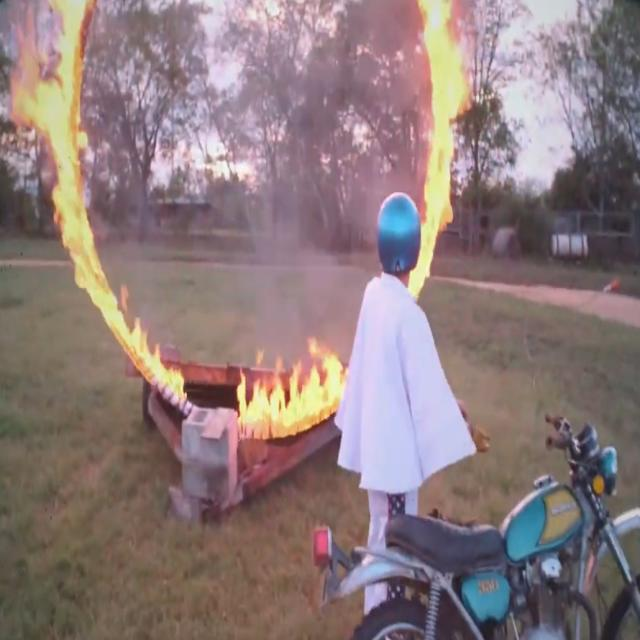fire: (61, 231, 164, 383), (16, 77, 92, 232), (236, 337, 348, 441), (417, 0, 464, 228), (53, 1, 95, 76), (409, 227, 437, 297)
